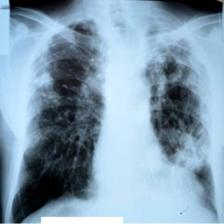tuberculosis: (2, 0, 224, 224)
